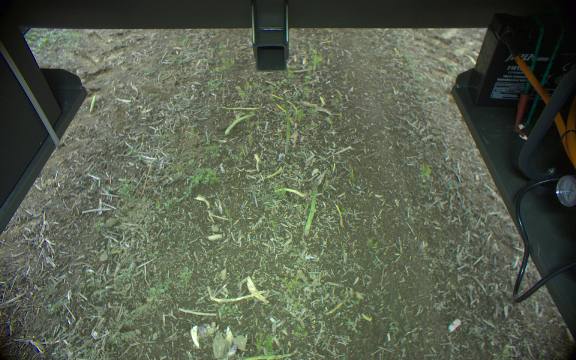aspa: (237, 341, 300, 360), (302, 178, 320, 238), (225, 112, 256, 136), (281, 92, 292, 156), (275, 186, 303, 199)
